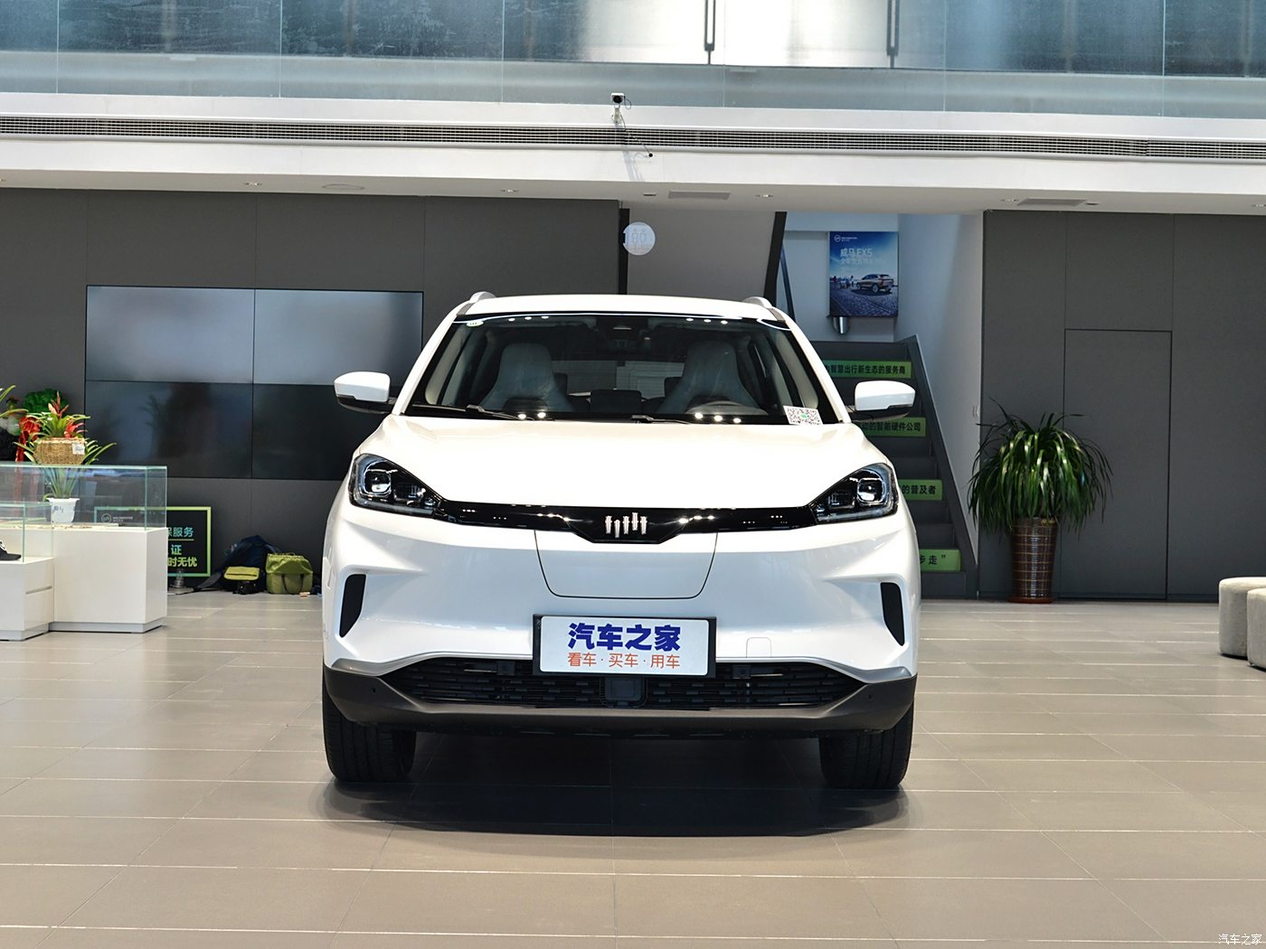WELTMEISTER: (606, 513, 646, 538)
